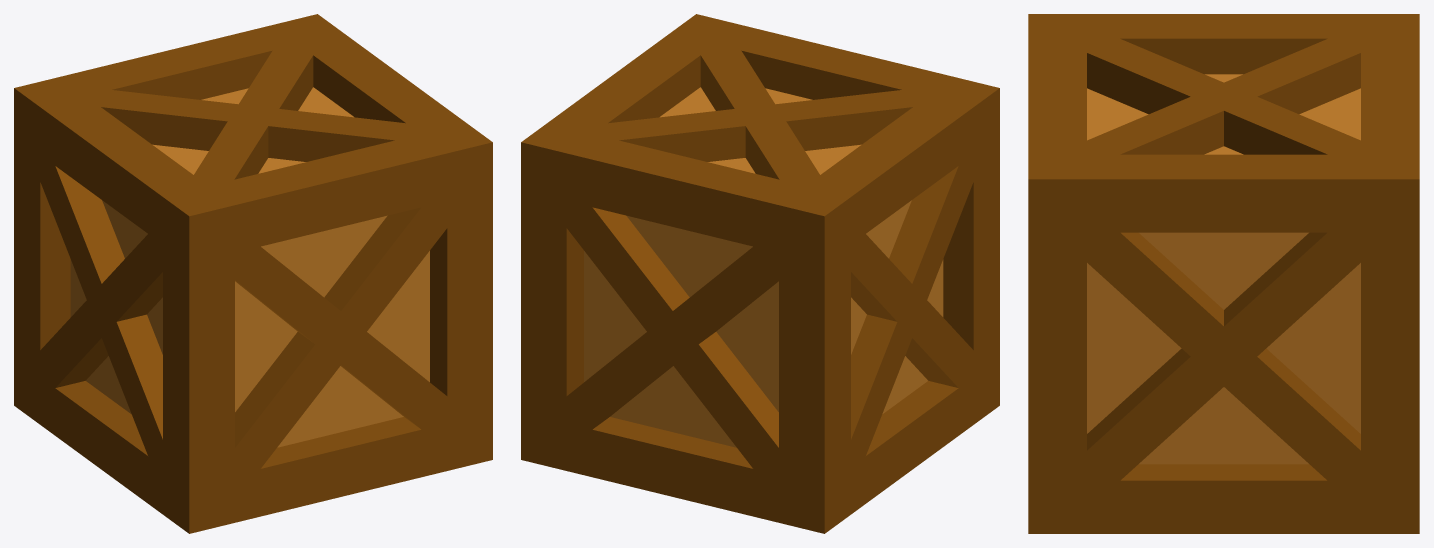
File: CrateWood.fbx
3 renders of one model, left to right at view 1: azimuth 30°, elevation 25°; view 2: azimuth 150°, elevation 25°; view 3: azimuth 270°, elevation 25°, orthographic. The views are drawn at different scales.
Visible parts, largest first — view 1: Wood; view 2: Wood; view 3: Wood.
Part boxes in pixels (box(x1,y1,x2,y2)): Wood: box(14, 14, 492, 533); Wood: box(521, 14, 999, 533); Wood: box(1028, 14, 1419, 533).
Bounding box in the file's own units: 100 × 100 × 100.
